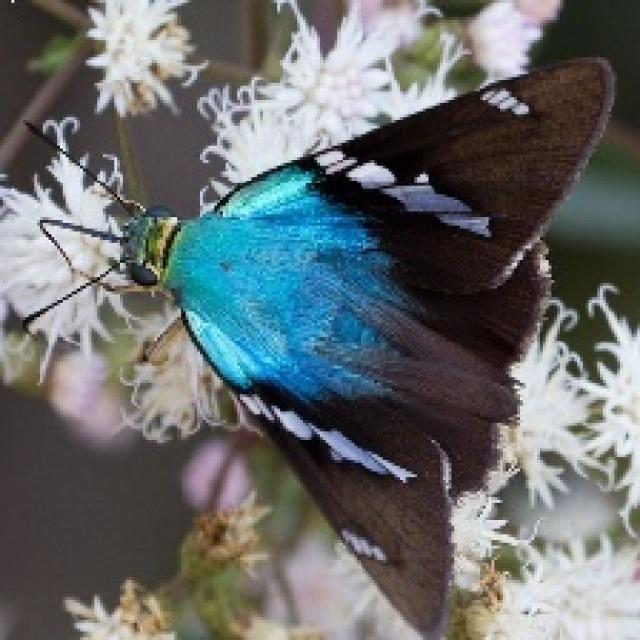butterfly: (17, 49, 617, 637)
